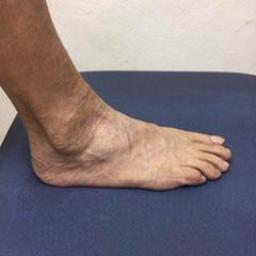Lateral View -Right Foot-: (3, 96, 237, 197)
